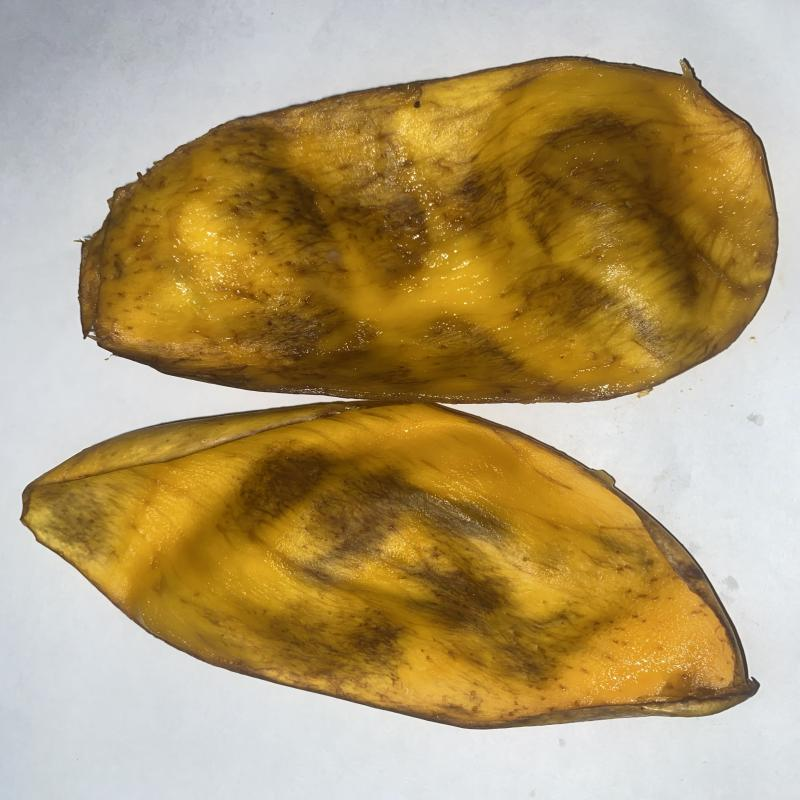fruit peels: (77, 57, 780, 407), (19, 402, 762, 732)
